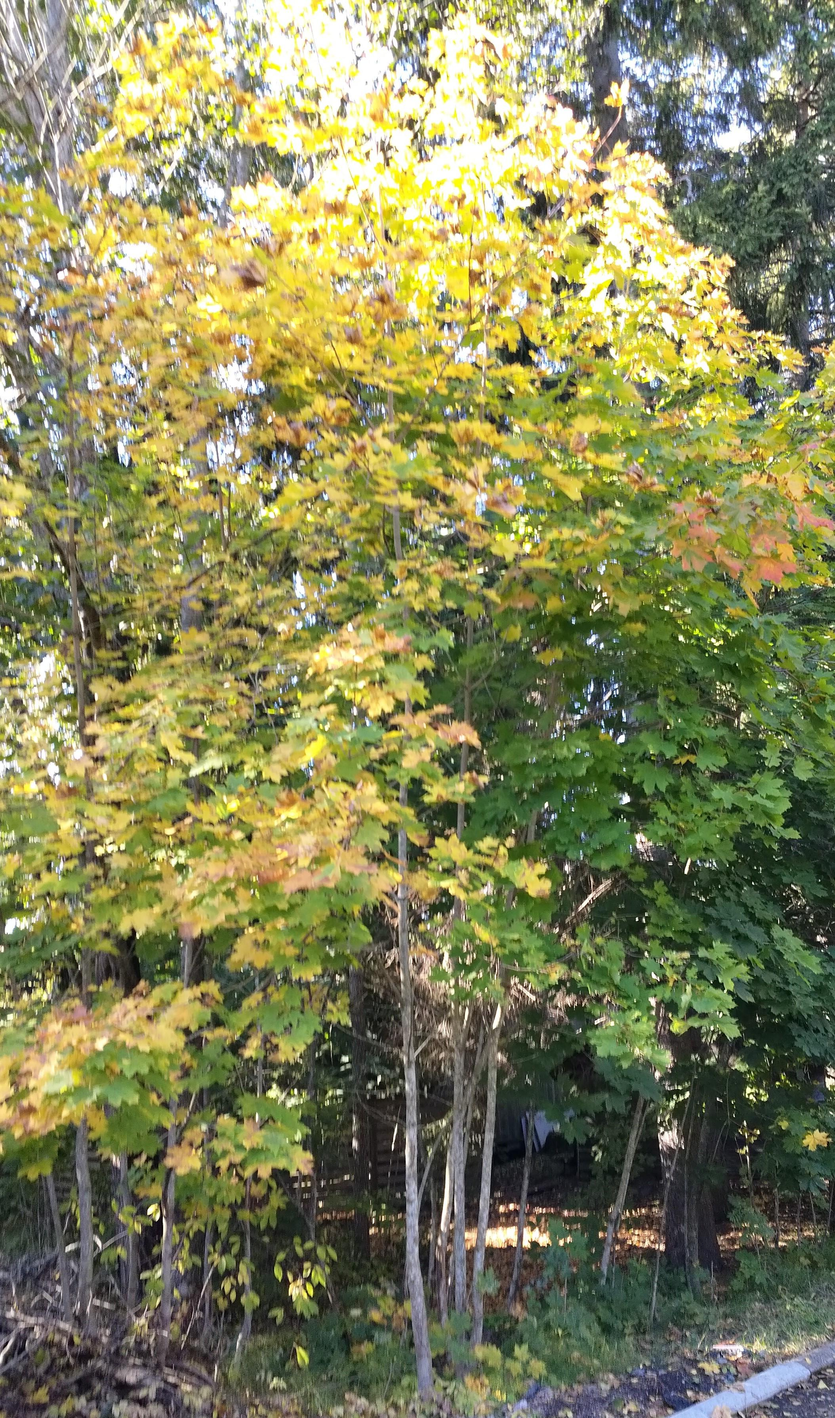Maple: (2, 2, 833, 1397)
